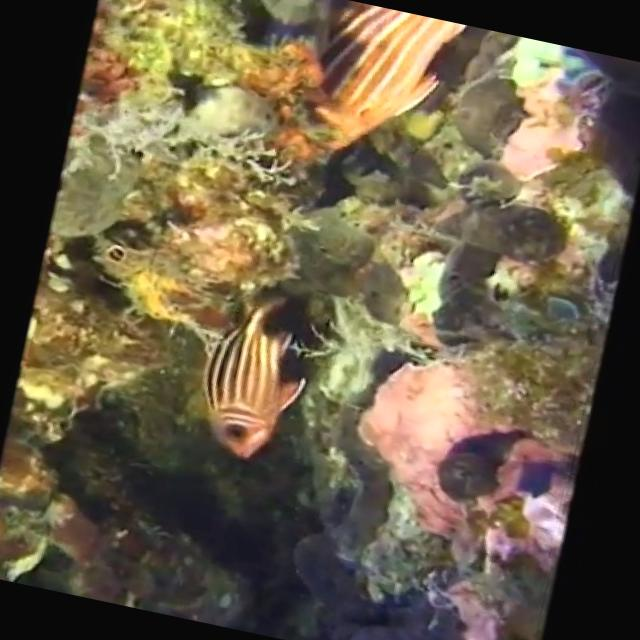Asker Baligi: (184, 280, 325, 470)
